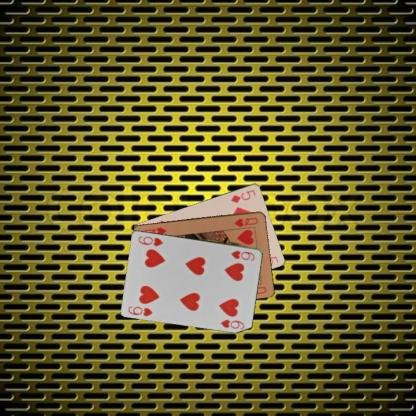5d: (228, 187, 257, 204)
6h: (126, 303, 154, 318), (229, 248, 256, 262)
Qh: (232, 215, 259, 228)
